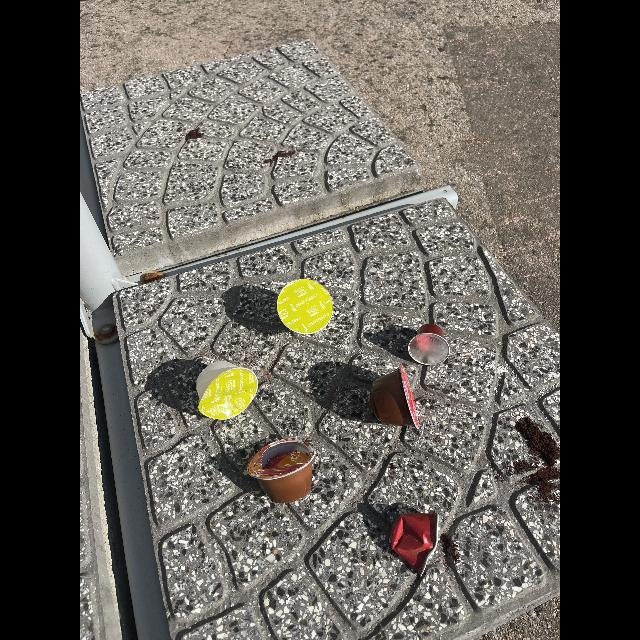damaged_capsule: (243, 434, 324, 508), (194, 359, 258, 421), (389, 509, 443, 577)
intact_capsule: (368, 362, 424, 433), (274, 278, 336, 336), (408, 322, 452, 366)
